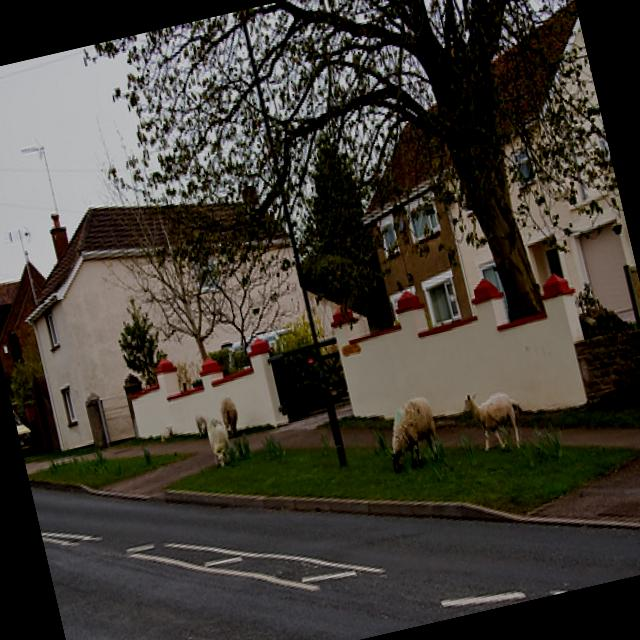Vehicle: (9, 394, 36, 454)
